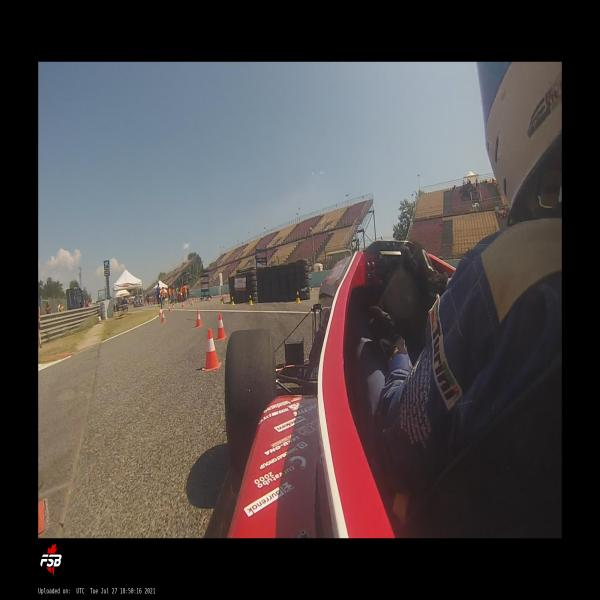orange_cone: (202, 328, 222, 371), (215, 313, 228, 340), (194, 309, 204, 328), (161, 310, 166, 324), (168, 305, 172, 312), (159, 308, 162, 317), (182, 302, 184, 308), (191, 300, 193, 305)
yellow_cone: (296, 290, 301, 304), (249, 294, 253, 306), (231, 296, 235, 306), (220, 297, 224, 305), (158, 304, 160, 310), (312, 286, 314, 291), (173, 302, 174, 308)
